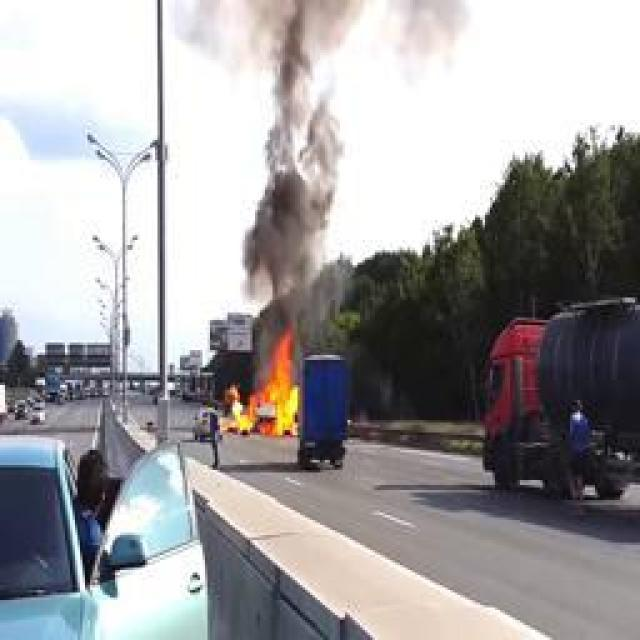Fire: (224, 328, 298, 438)
